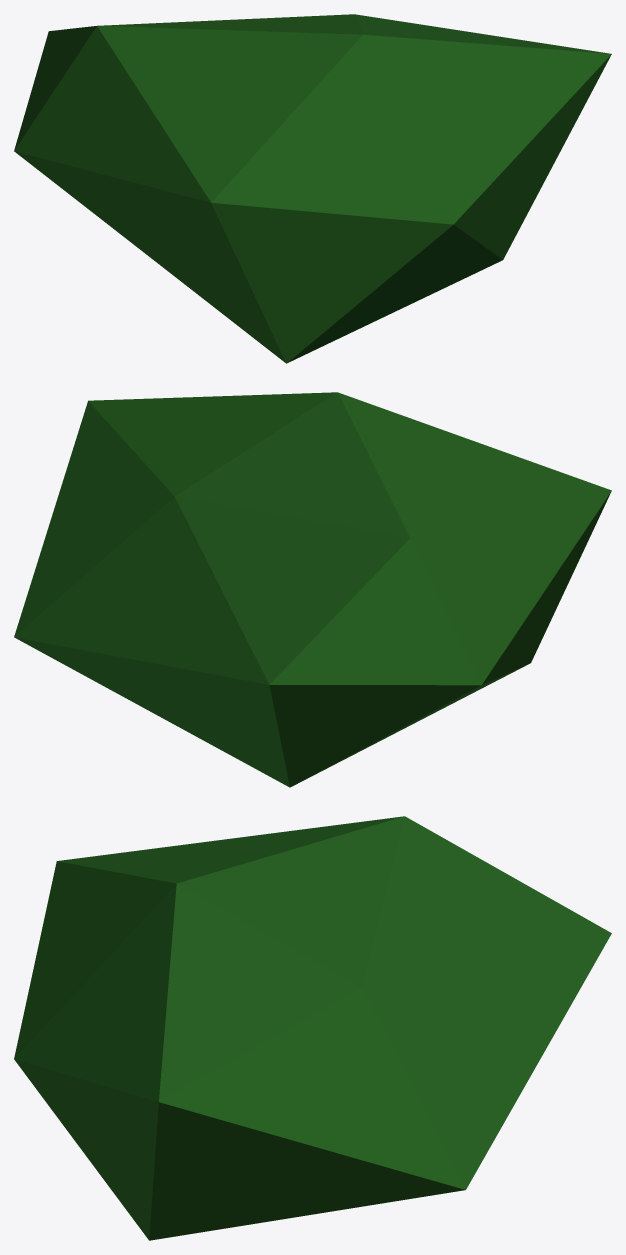
File: bush3.glb
3 renders of one model, top to bottom at view 1: azimuth 30°, elevation 25°; view 2: azimuth 150°, elevation 25°; view 3: azimuth 270°, elevation 25°, orthographic. The views are drawn at different scales.
Parts seen in each view (by area): view 1: bush4; view 2: bush4; view 3: bush4.
Boxes of the visible parts, left/top/right/bottom form: bush4: left=14, top=14, right=611, bottom=363; bush4: left=14, top=392, right=611, bottom=787; bush4: left=14, top=816, right=611, bottom=1240.
Size of the model in its own units: 0.8389 by 0.4354 by 0.7819.
